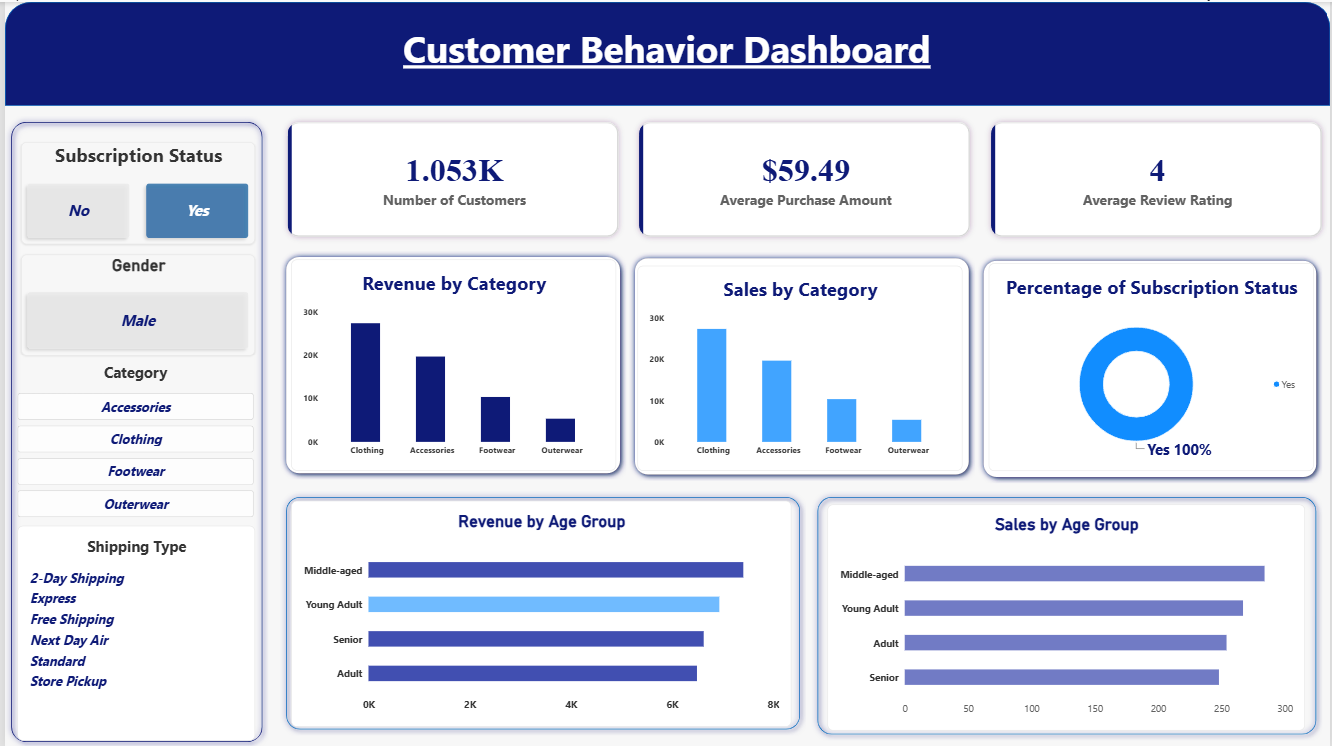

The page's visual inventory and layout, read from the dashboard file:
{"tool":"powerbi","page":{"name":"Page 1","canvas":[1920,1080],"ordinal":0},"visuals":[{"type":"cardVisual","fields":{"Data":["public customer.Number of Customers","public customer.Average Purchase Amount","public customer.Average Review Rating"]},"box":[398.1,162.9,1521.9,188.2],"z":0},{"type":"shape","box":[0,0,1920.1,150.2],"z":1000},{"type":"textbox","box":[211.7,30.8,1493,88],"z":2000},{"type":"shape","box":[1407.9,365.6,499.5,331.2],"z":2500},{"type":"shape","box":[398.1,360.1,501.3,331.2],"z":3000},{"type":"donutChart","title":"Percentage of Subscription Status","fields":{"Category":["public customer.subscription_status"],"Y":["CountNonNull(public customer.customer_id)"]},"box":[1424.2,378.2,470.5,300.4],"z":5500},{"type":"clusteredColumnChart","title":"Revenue by Category","fields":{"Category":["public customer.category"],"Y":["Sum(public customer.purchase_amount)"]},"box":[414.4,372.8,470.5,305.8],"z":6000},{"type":"shape","box":[0,164.7,381.8,915.7],"z":8000},{"type":"shape","box":[903,361.9,501.3,331.2],"z":8250},{"type":"clusteredColumnChart","title":"Sales by Category","fields":{"Category":["public customer.category"],"Y":["Sum(public customer.purchase_amount)"]},"box":[915.7,381.8,470.5,296.8],"z":8500},{"type":"advancedSlicerVisual","title":"Subscription Status","fields":{"Values":["public customer.subscription_status"]},"box":[23.5,202.7,338.4,148.4],"z":9000},{"type":"advancedSlicerVisual","title":"Gender","fields":{"Values":["public customer.gender"]},"box":[23.5,365.6,338.4,146.6],"z":10000},{"type":"advancedSlicerVisual","title":"Category","fields":{"Values":["public customer.category"]},"box":[18.1,521.2,342,226.2],"z":11000},{"type":"listSlicer","title":"Shipping Type","fields":{"Values":["public customer.shipping_type"]},"box":[18.1,758.2,343.8,311.3],"z":12000},{"type":"shape","box":[398.1,707.6,761.9,354.7],"z":14000},{"type":"clusteredBarChart","title":"Revenue by Age Group","fields":{"Category":["public customer.age_group"],"Y":["Sum(public customer.previous_purchases)"]},"box":[414.4,722.1,723.9,327.5],"z":14500},{"type":"shape","box":[1167.2,707.6,740.2,361.9],"z":15000},{"type":"clusteredBarChart","title":"Sales by Age Group","fields":{"Category":["public customer.age_group"],"Y":["CountNonNull(public customer.customer_id)"]},"box":[1190.8,727.5,691.3,327.5],"z":16000}]}

Visuals, with their boxes in screenshot pixels (x1, y1, x2, y2), scaled from the page's 1920x1080 canvas onto the 1332x746 screenshot:
cardVisual - public customer.Number of Customers x public customer.Average Purchase Amount: box(276, 113, 1331, 243)
shape: box(0, 0, 1331, 104)
textbox: box(147, 21, 1183, 82)
shape: box(977, 253, 1323, 481)
shape: box(276, 249, 624, 478)
"Percentage of Subscription Status" donutChart: box(988, 261, 1314, 469)
"Revenue by Category" clusteredColumnChart: box(287, 258, 614, 469)
shape: box(0, 114, 265, 745)
shape: box(626, 250, 974, 479)
"Sales by Category" clusteredColumnChart: box(635, 264, 962, 469)
"Subscription Status" advancedSlicerVisual: box(16, 140, 251, 243)
"Gender" advancedSlicerVisual: box(16, 253, 251, 354)
"Category" advancedSlicerVisual: box(13, 360, 250, 516)
"Shipping Type" listSlicer: box(13, 524, 251, 739)
shape: box(276, 489, 805, 734)
"Revenue by Age Group" clusteredBarChart: box(287, 499, 790, 725)
shape: box(810, 489, 1323, 739)
"Sales by Age Group" clusteredBarChart: box(826, 503, 1306, 729)
